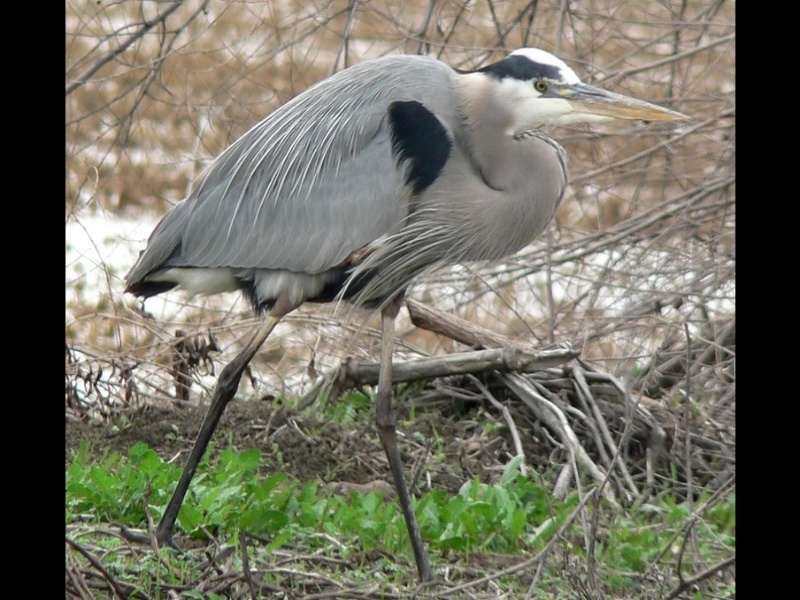heron: (121, 45, 690, 561)
